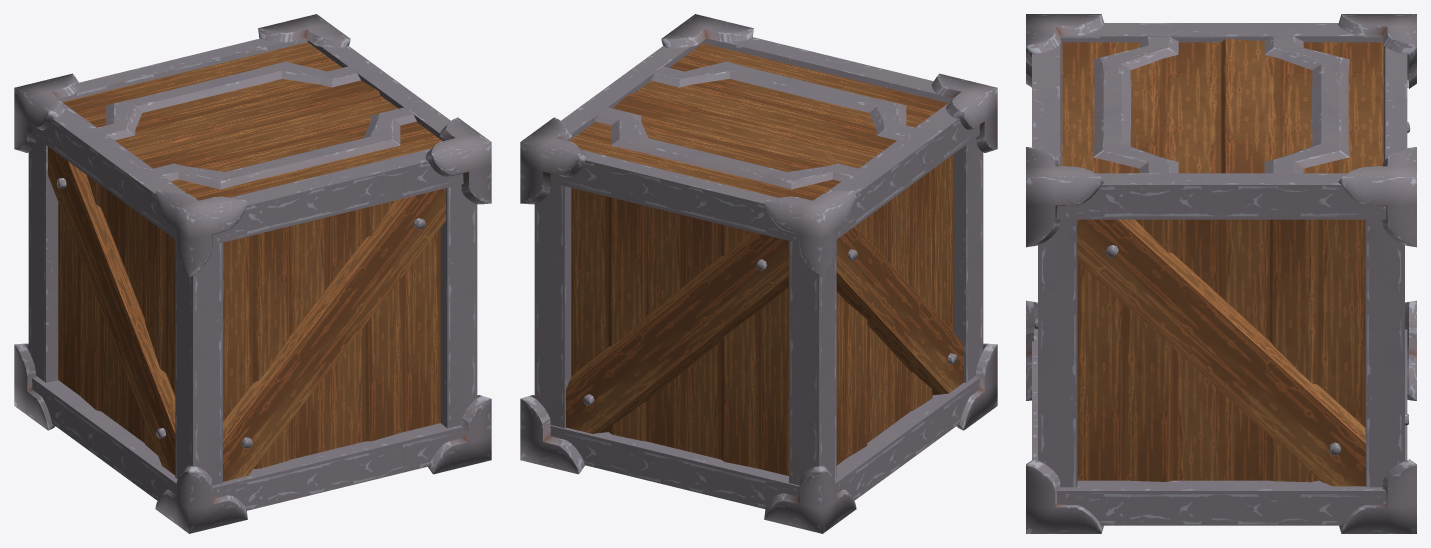
Rendered from Crate_Metal.fbx.
3 renders of one model, left to right at view 1: azimuth 30°, elevation 25°; view 2: azimuth 150°, elevation 25°; view 3: azimuth 270°, elevation 25°, orthographic. The views are drawn at different scales.
Visible parts, largest first — view 1: Crate_Metal; view 2: Crate_Metal; view 3: Crate_Metal.
Boxes of the visible parts, x1,y1,x2,y2 form: Crate_Metal: (14, 14, 491, 533); Crate_Metal: (520, 14, 997, 533); Crate_Metal: (1026, 14, 1416, 533).
Size of the model in its own units: 86.39 by 86.79 by 86.59.
